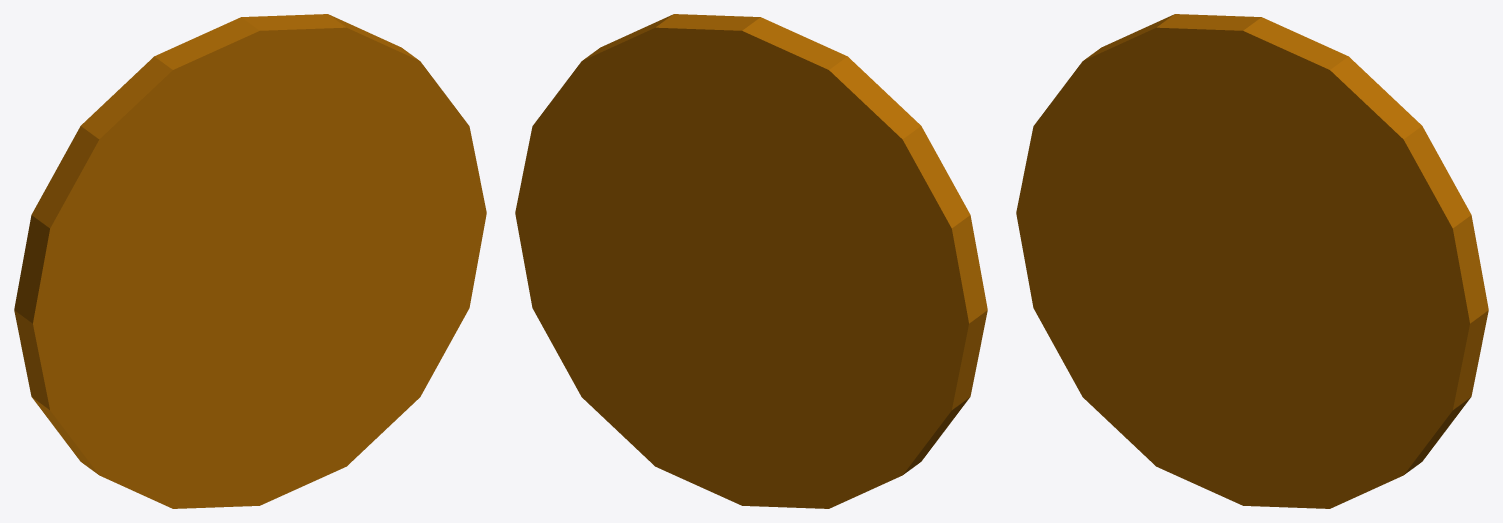
File: robomaster_wheel.gltf
3 renders of one model, left to right at view 1: azimuth 30°, elevation 25°; view 2: azimuth 150°, elevation 25°; view 3: azimuth 330°, elevation 25°, orthographic.
Parts seen in each view (by area): view 1: front_left_wheel_link/visual0; view 2: front_left_wheel_link/visual0; view 3: front_left_wheel_link/visual0.
Boxes of the visible parts, left/top/right/bottom form: front_left_wheel_link/visual0: left=14, top=14, right=486, bottom=508; front_left_wheel_link/visual0: left=515, top=14, right=987, bottom=508; front_left_wheel_link/visual0: left=1016, top=14, right=1488, bottom=508.
Size of the model in its own units: 0.014 by 0.014 by 0.001.
